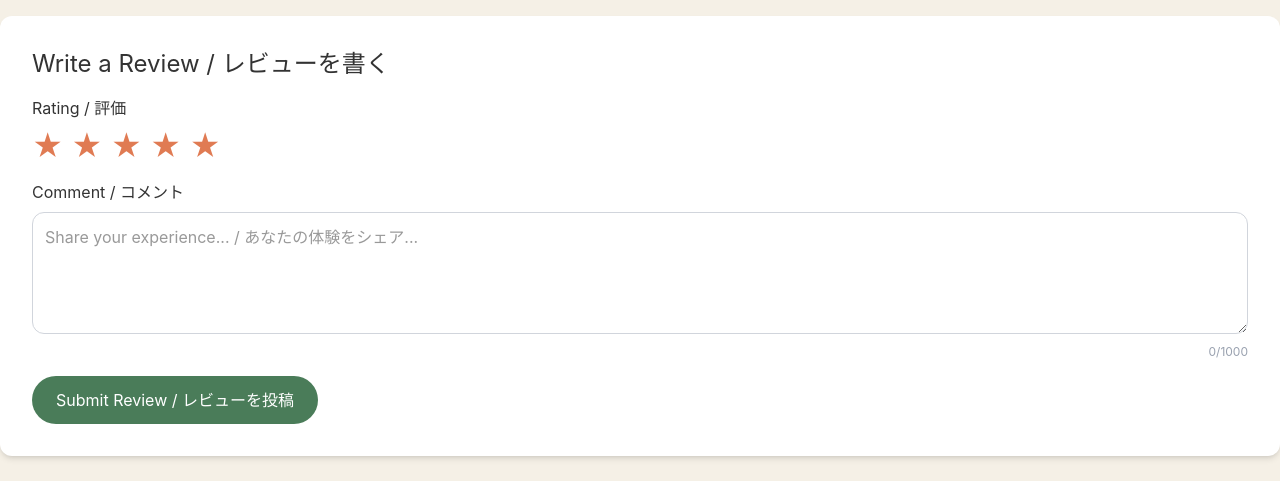
Scenario: ReviewForm › コメントが短いと送信せずにエラーを表示する
In the text box: (640, 273) [32,212,1248,334], type "短い"
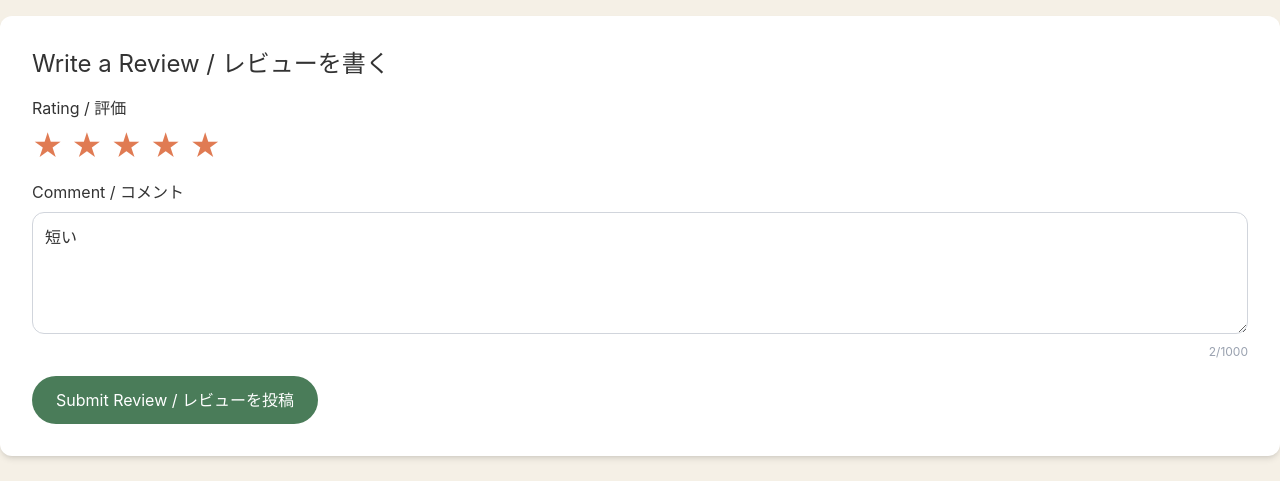
Click the button "Submit Review / レビューを投稿": (175, 400) [32,376,318,424]
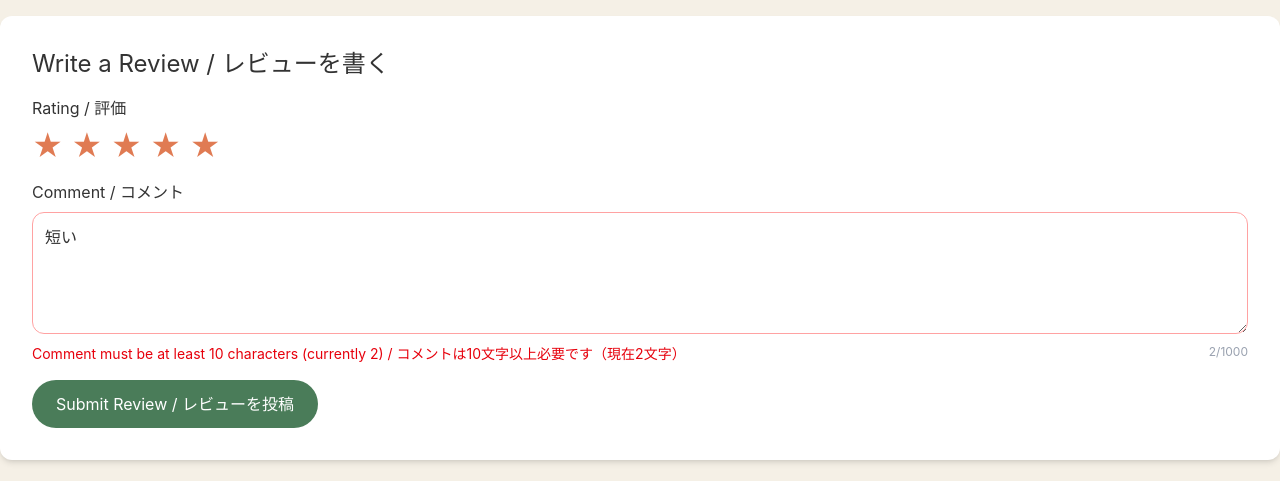
Check: the text "コメントは10文字以上必要です" is shown, box [32,345,686,362]
